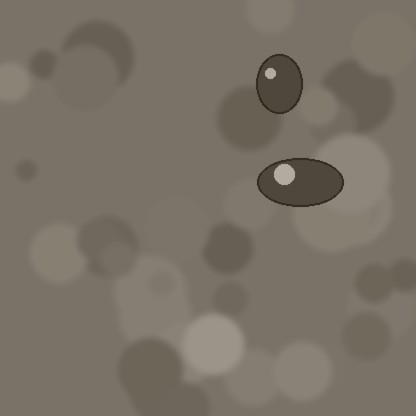gota: (257, 160, 343, 210), (256, 56, 302, 118)
